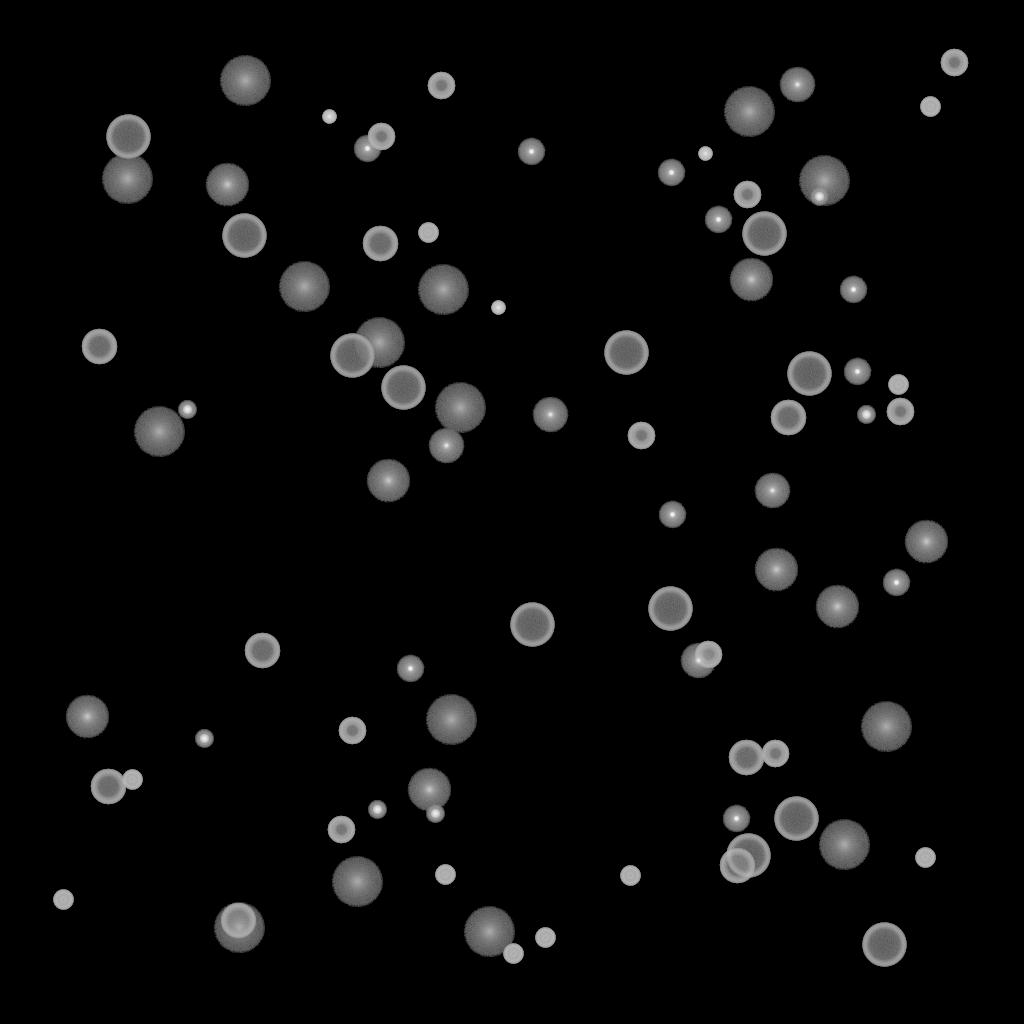depth:-10: (839, 276, 867, 304), (517, 138, 545, 166), (658, 501, 686, 529), (843, 358, 871, 386), (396, 655, 424, 683), (882, 569, 910, 597), (353, 135, 381, 163), (722, 805, 750, 833), (657, 159, 685, 187), (704, 206, 732, 234)
depth:-20: (810, 188, 828, 206), (178, 401, 196, 419), (368, 801, 386, 819), (426, 805, 444, 823), (195, 730, 213, 748), (857, 406, 875, 424)
depth:-30: (698, 147, 712, 161), (322, 110, 336, 124), (491, 301, 505, 315)
depth:-40: (503, 944, 523, 964), (920, 97, 940, 117), (418, 223, 438, 243), (435, 865, 455, 885), (915, 848, 935, 868), (620, 866, 640, 886), (888, 375, 908, 395), (122, 770, 142, 790), (535, 928, 555, 948), (53, 890, 73, 910)
depth:-50: (761, 740, 789, 768), (627, 422, 655, 450), (886, 398, 914, 426), (733, 181, 761, 209), (427, 72, 455, 100), (940, 49, 968, 77), (367, 123, 395, 151), (694, 641, 722, 669), (338, 717, 366, 745), (327, 816, 355, 844)
depth:-60: (81, 329, 117, 365), (362, 226, 398, 262), (728, 740, 764, 776), (770, 400, 806, 436), (90, 769, 126, 805), (719, 848, 755, 884), (220, 903, 256, 939), (244, 633, 280, 669)
depth:-70: (510, 603, 554, 647), (862, 923, 906, 967), (726, 834, 770, 878), (787, 352, 831, 396), (604, 331, 648, 375), (381, 366, 425, 410), (106, 115, 150, 159), (774, 797, 818, 841), (742, 212, 786, 256), (648, 587, 692, 631), (222, 214, 266, 258), (330, 334, 374, 378)
depth:0: (428, 428, 464, 464), (754, 473, 790, 509), (680, 643, 716, 679), (779, 67, 815, 103), (532, 397, 568, 433)
depth:10: (205, 163, 249, 207), (729, 258, 773, 302), (815, 585, 859, 629), (366, 459, 410, 503), (754, 548, 798, 592), (407, 768, 451, 812), (904, 520, 948, 564), (65, 695, 109, 739)
depth:20: (278, 262, 330, 312), (425, 695, 477, 745), (353, 318, 405, 368), (818, 820, 870, 870), (213, 903, 265, 953), (331, 857, 383, 907), (133, 407, 185, 457), (723, 87, 775, 137), (434, 383, 486, 433), (219, 56, 271, 106), (463, 907, 515, 957), (101, 154, 153, 204), (860, 702, 912, 752), (417, 265, 469, 315), (798, 156, 850, 206)
